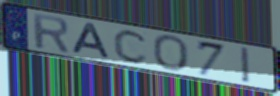7: (193, 39, 229, 77)
A: (71, 22, 113, 61)
C: (112, 28, 151, 65)
I: (239, 45, 253, 86)
O: (151, 34, 191, 73)
R: (30, 11, 71, 54)
